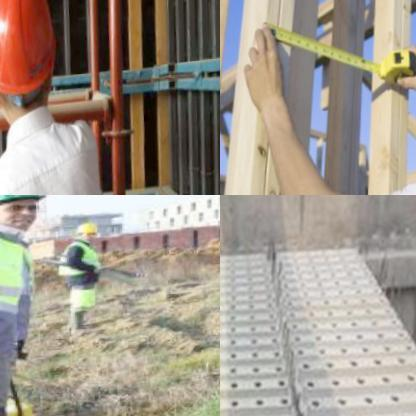helmet: (0, 0, 73, 146), (0, 195, 52, 240), (75, 220, 101, 245)
